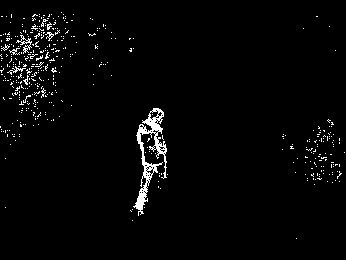person: (129, 105, 170, 221)
